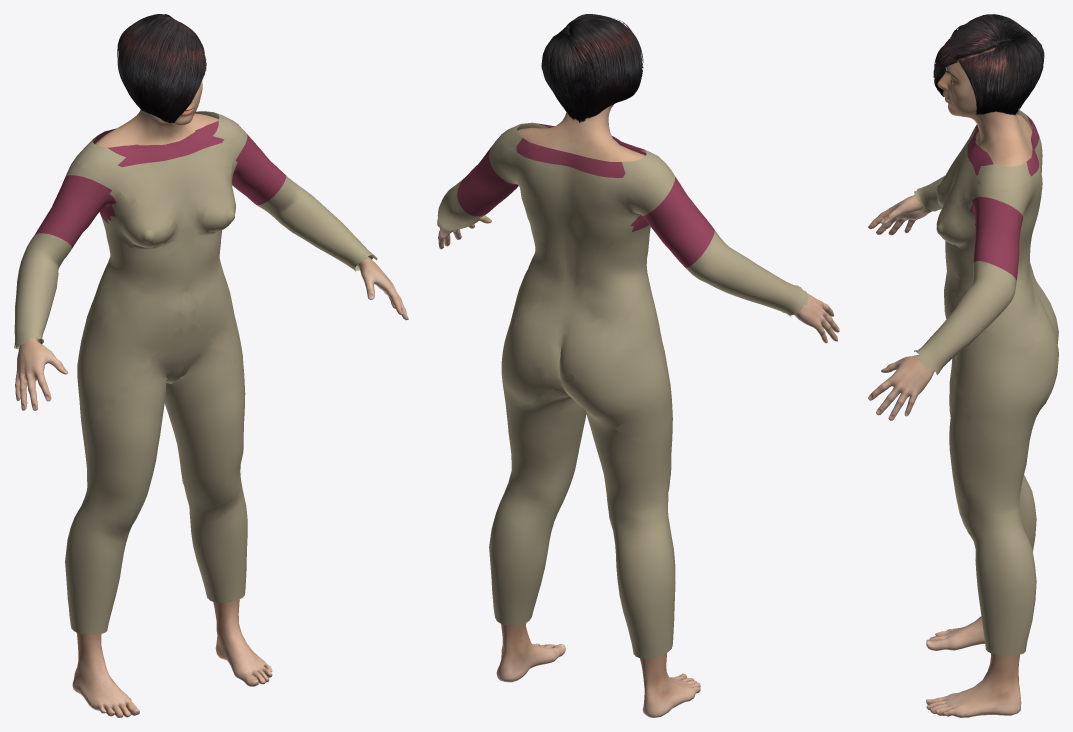
The model's file is crew_CASTOR.glb.
3 views of the same model, side by side, from view 1: azimuth 30°, elevation 25°; view 2: azimuth 150°, elevation 25°; view 3: azimuth 270°, elevation 25° (orthographic). The views are drawn at different scales.
Parts seen in each view (by area): view 1: CASTOR_uniform, CASTOR_skin, CASTOR_bob01; view 2: CASTOR_uniform, CASTOR_skin, CASTOR_bob01; view 3: CASTOR_uniform, CASTOR_skin, CASTOR_bob01.
Boxes of the visible parts, x1,y1,x2,y2 form: CASTOR_uniform: (14,111,377,634); CASTOR_skin: (15,81,408,717); CASTOR_bob01: (117,14,206,123); CASTOR_uniform: (437,122,807,658); CASTOR_skin: (438,104,839,717); CASTOR_bob01: (541,14,643,122); CASTOR_uniform: (914,110,1058,655); CASTOR_skin: (868,48,1032,717); CASTOR_bob01: (933,14,1044,115).
Bounding box in the file's own units: 0.9854 × 1.62 × 0.4255.
16 materials, 11 textured.
